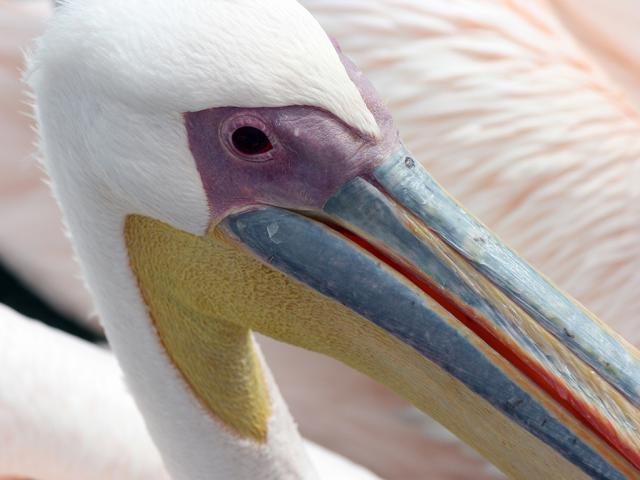Bird: (0, 0, 638, 479)
